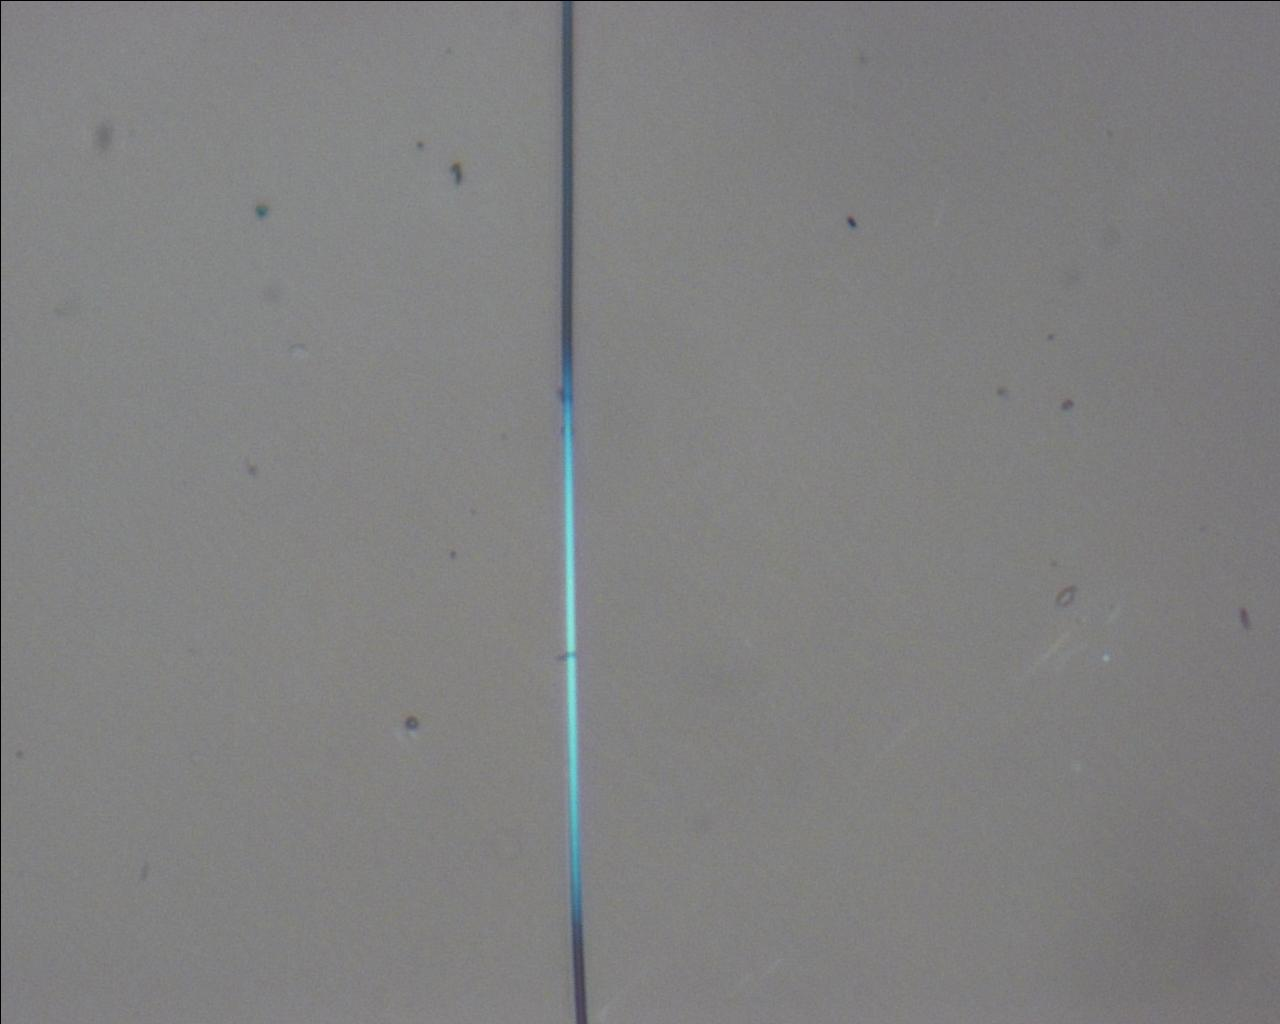fiber: (559, 0, 586, 1024)
